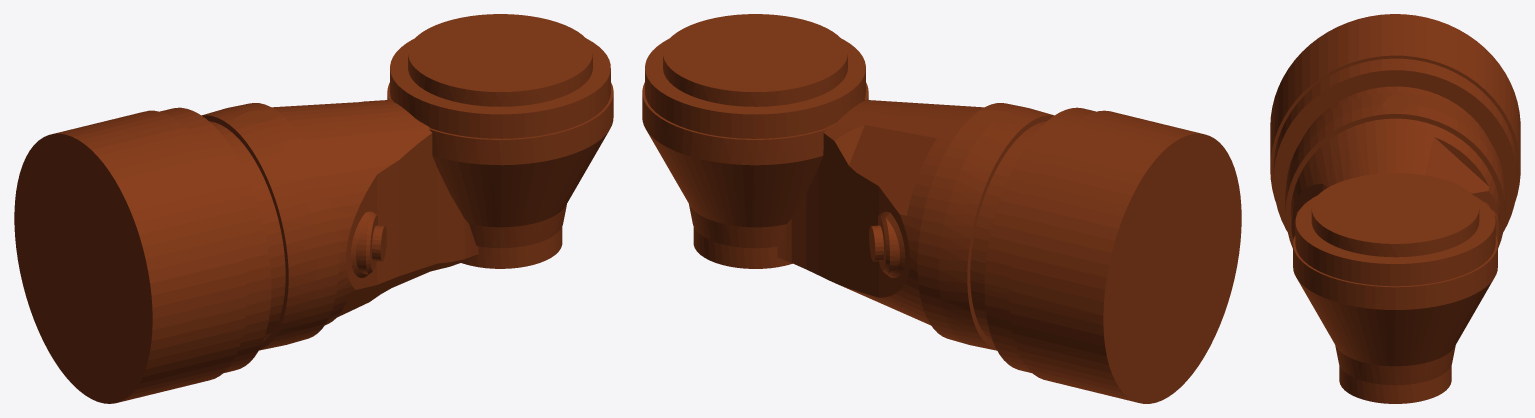
3 renders of one model, left to right at view 1: azimuth 30°, elevation 25°; view 2: azimuth 150°, elevation 25°; view 3: azimuth 270°, elevation 25°, orthographic. The views are drawn at different scales.
Visible parts, largest first — view 1: Link_4; view 2: Link_4; view 3: Link_4.
Boxes of the visible parts, x1=… form: Link_4: x1=14, y1=14, x2=613, y2=403; Link_4: x1=642, y1=14, x2=1241, y2=403; Link_4: x1=1270, y1=14, x2=1520, y2=403.
Bounding box in the file's own units: 0.331 × 0.154 × 0.154.
